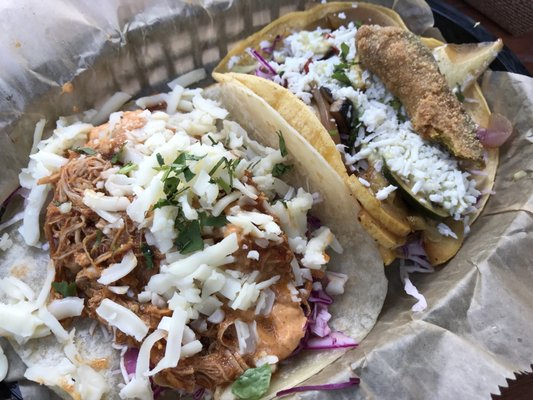soup: (5, 58, 387, 398), (215, 3, 515, 268), (317, 19, 512, 267)
